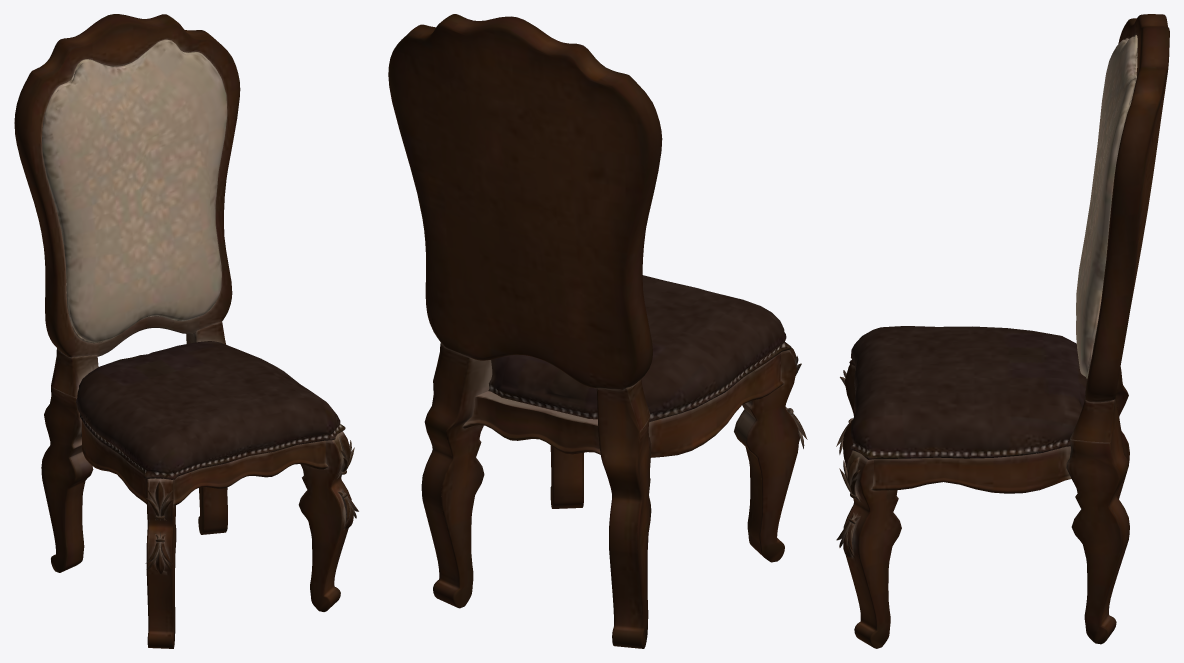
File: chair-18.glb
3 views of the same model, side by side, from view 1: azimuth 30°, elevation 25°; view 2: azimuth 150°, elevation 25°; view 3: azimuth 270°, elevation 25° (orthographic). The views are drawn at different scales.
Parts seen in each view (by area): view 1: victorian_chair_cloth, victorian_chair_wood; view 2: victorian_chair_wood, victorian_chair_cloth; view 3: victorian_chair_wood, victorian_chair_cloth.
Part boxes in pixels (box(x1,y1,x2,y2)): victorian_chair_cloth: box(42, 39, 345, 479); victorian_chair_wood: box(14, 14, 358, 648); victorian_chair_wood: box(388, 14, 807, 648); victorian_chair_cloth: box(488, 275, 791, 421); victorian_chair_wood: box(836, 14, 1169, 648); victorian_chair_cloth: box(849, 35, 1137, 459).
Size of the model in its own units: 4.98 by 11.19 by 5.95.
Materials: 2 (2 with a texture image).
